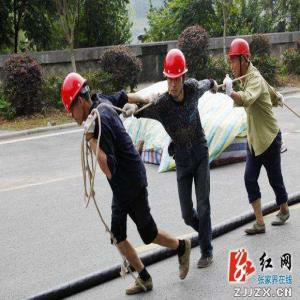red: (60, 71, 94, 126), (162, 45, 188, 101), (228, 39, 252, 80)
